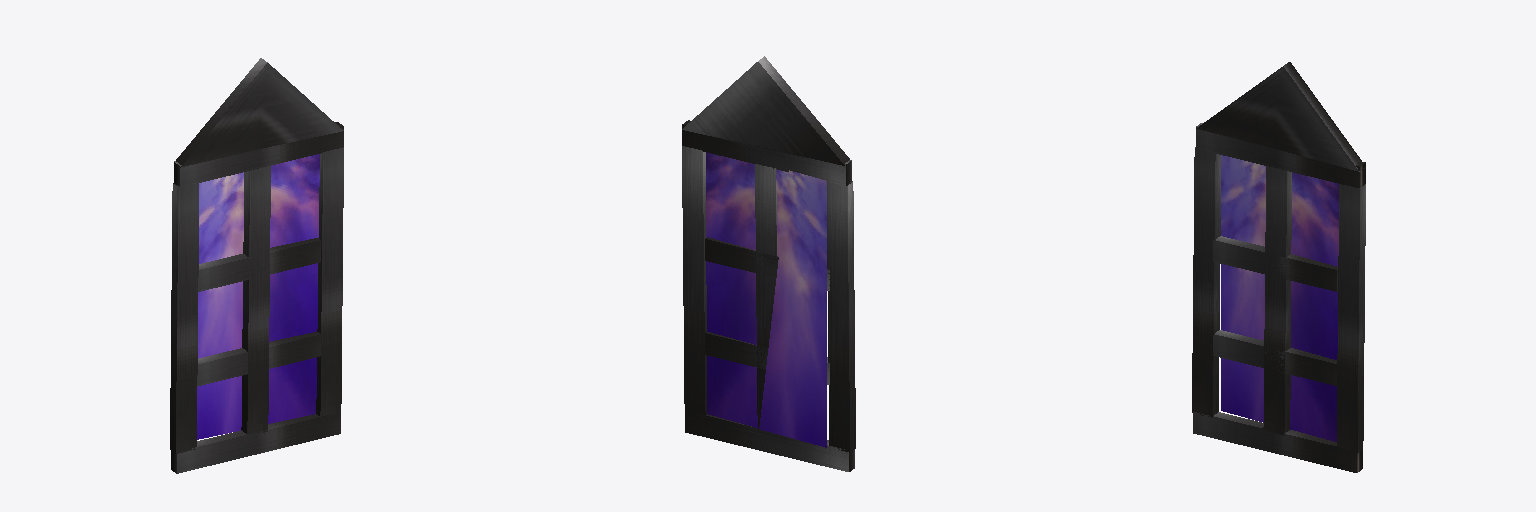
3 views of the same model, side by side, from view 1: azimuth 30°, elevation 25°; view 2: azimuth 150°, elevation 25°; view 3: azimuth 330°, elevation 25° (orthographic).
Parts seen in each view (by area): view 1: pCube9, pPlane1; view 2: pCube9, pPlane1; view 3: pCube9, pPlane1.
Boxes of the visible parts, x1=… form: pCube9: x1=170, y1=58, x2=343, y2=473; pPlane1: x1=197, y1=154, x2=319, y2=439; pCube9: x1=682, y1=56, x2=855, y2=471; pPlane1: x1=706, y1=152, x2=826, y2=447; pCube9: x1=1192, y1=62, x2=1365, y2=472; pPlane1: x1=1221, y1=155, x2=1338, y2=441.
Size of the model in its own units: 5.26 by 11.63 by 0.4588.
Materials: 2 (2 with a texture image).